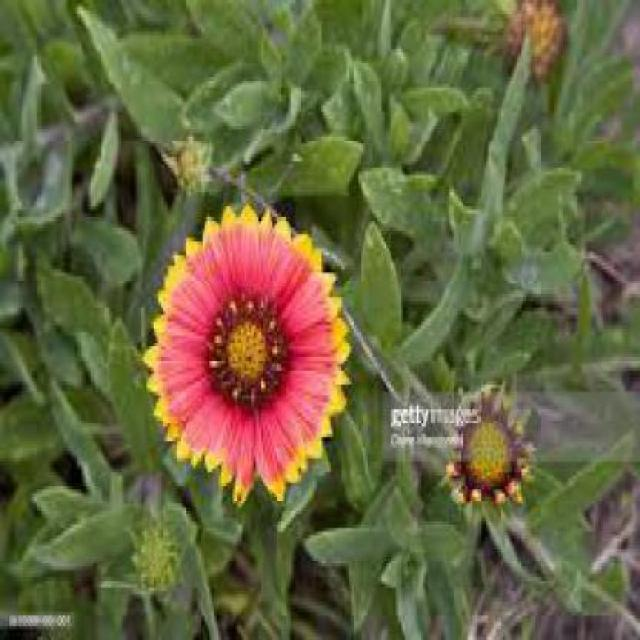Flower: (143, 202, 352, 507), (209, 297, 286, 406)
